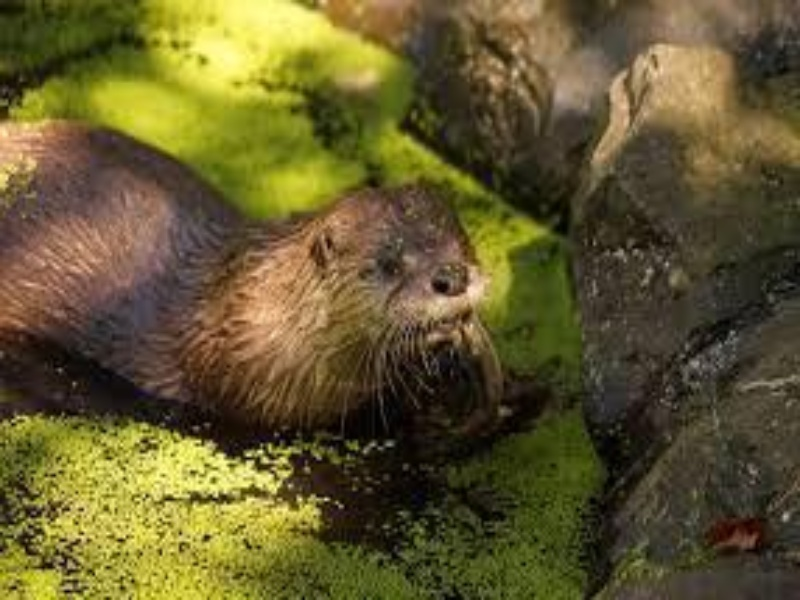minkish: (9, 110, 497, 447)
